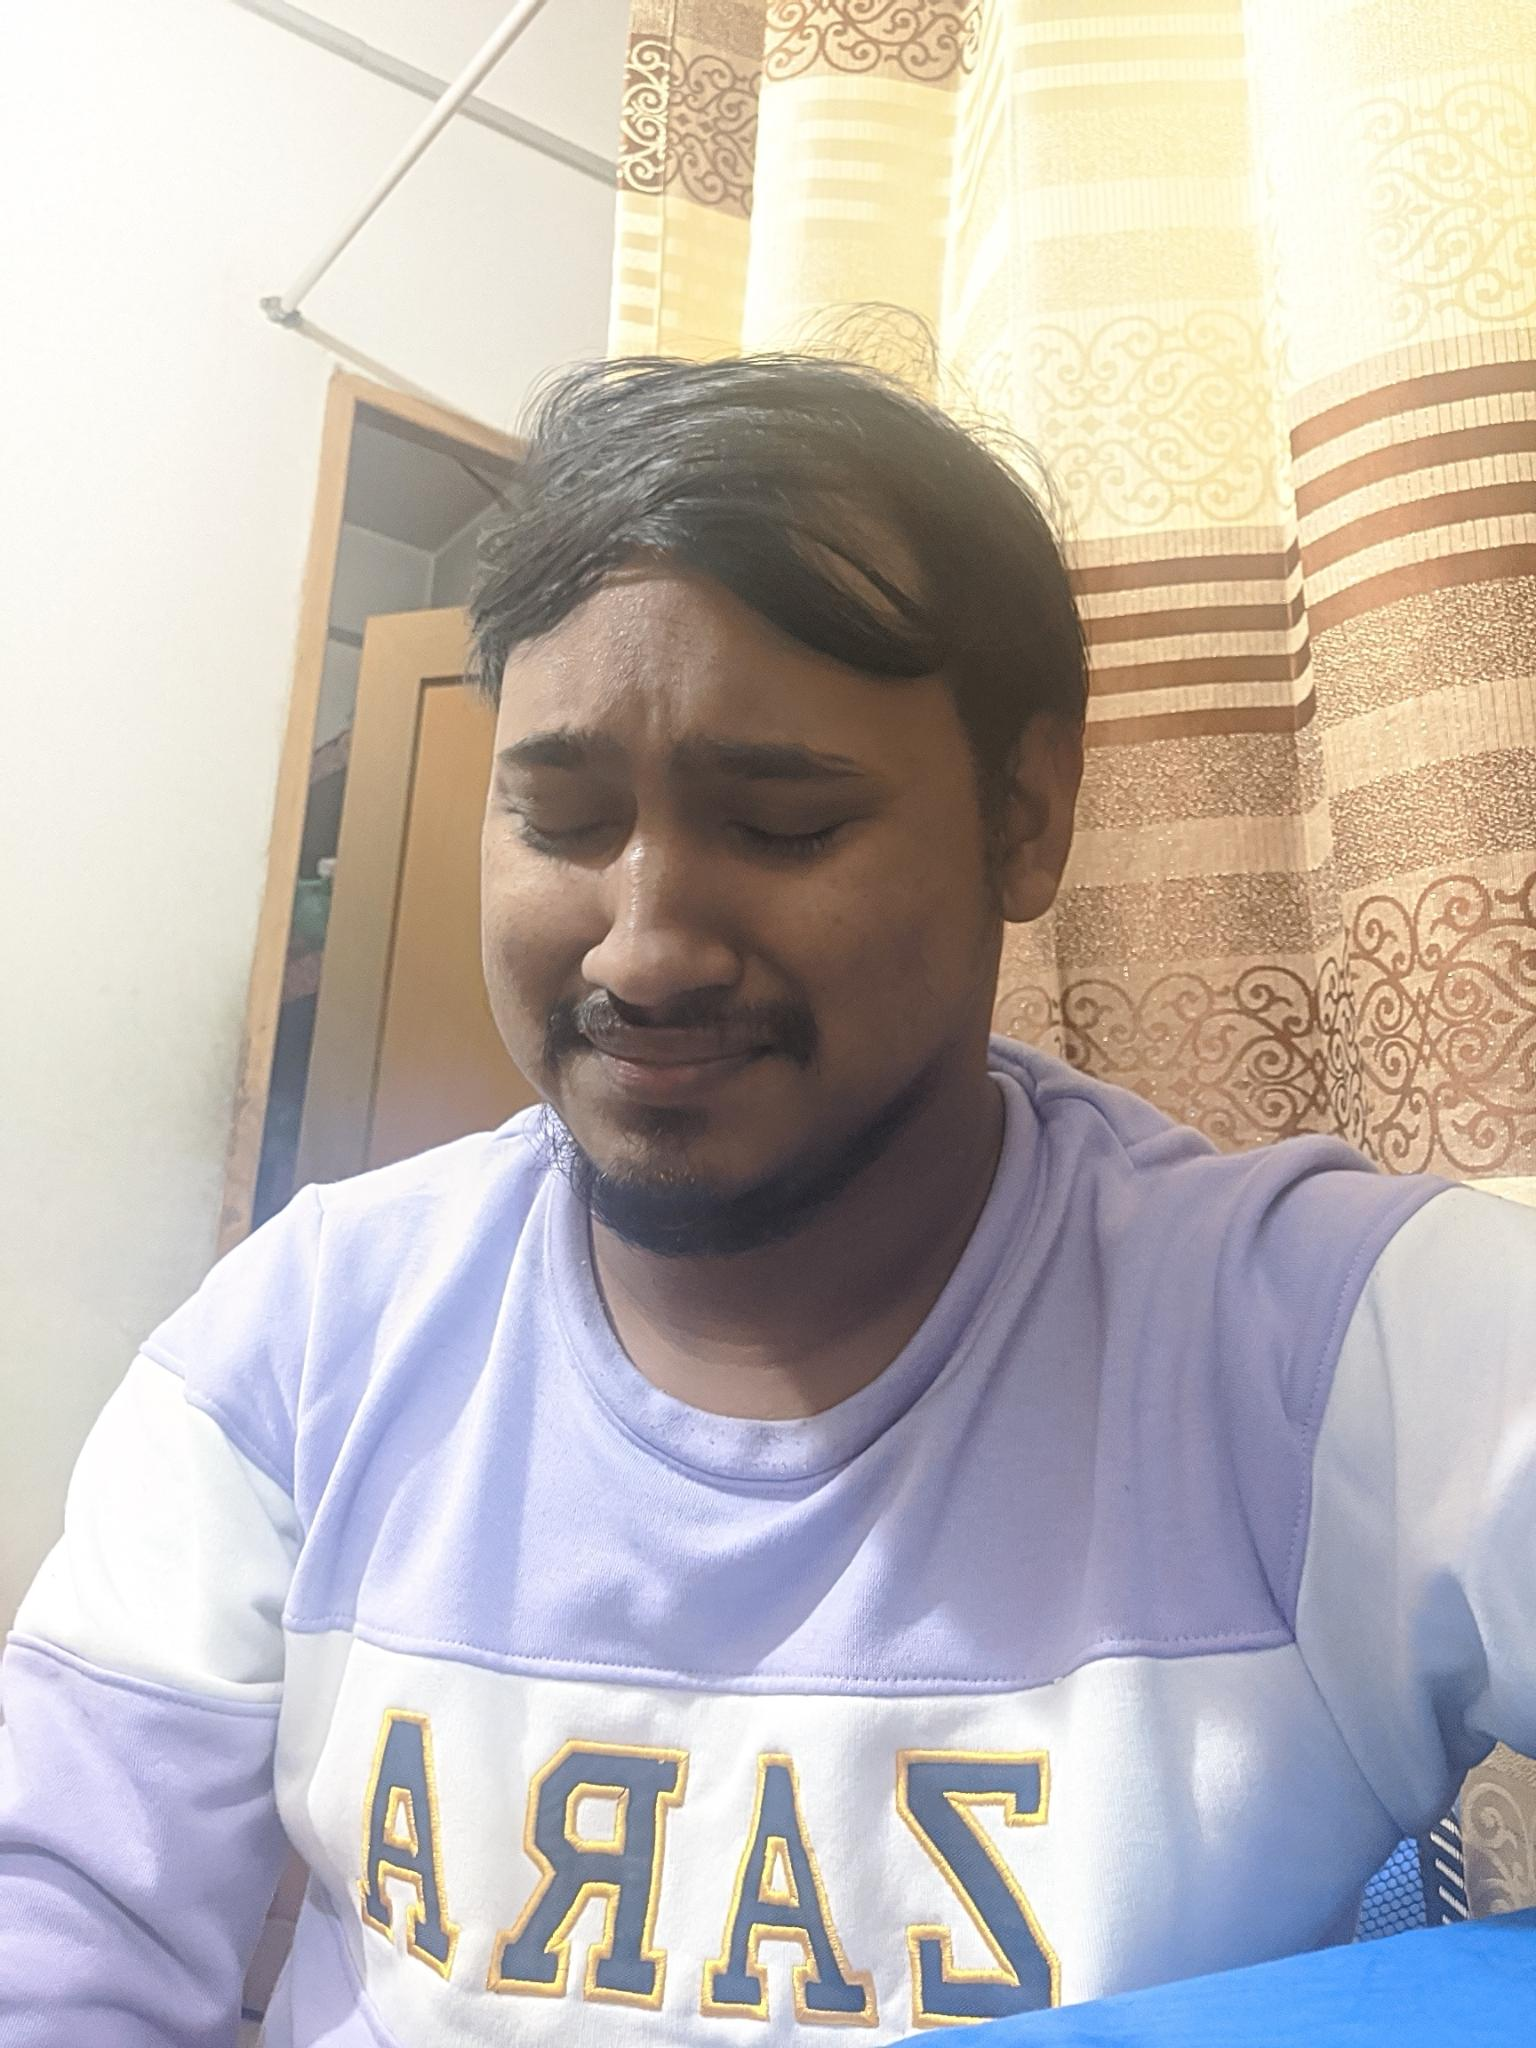Sad: (460, 640, 921, 1243)
